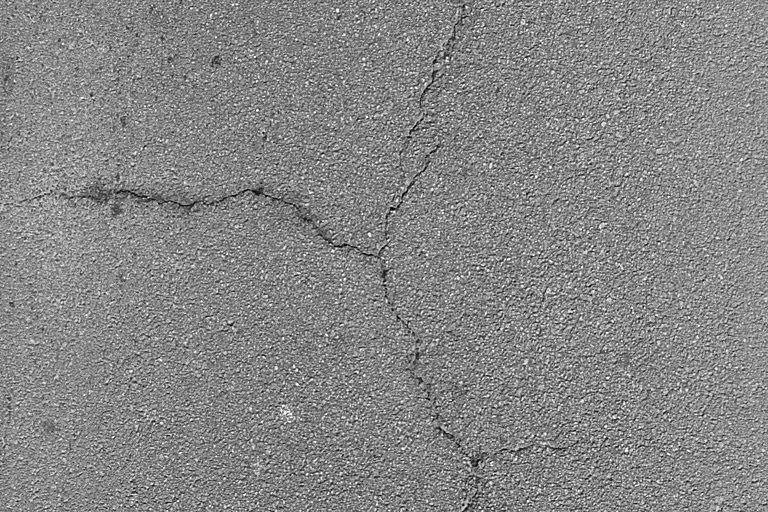crack: (34, 146, 378, 271), (369, 257, 485, 512), (370, 0, 477, 257)
